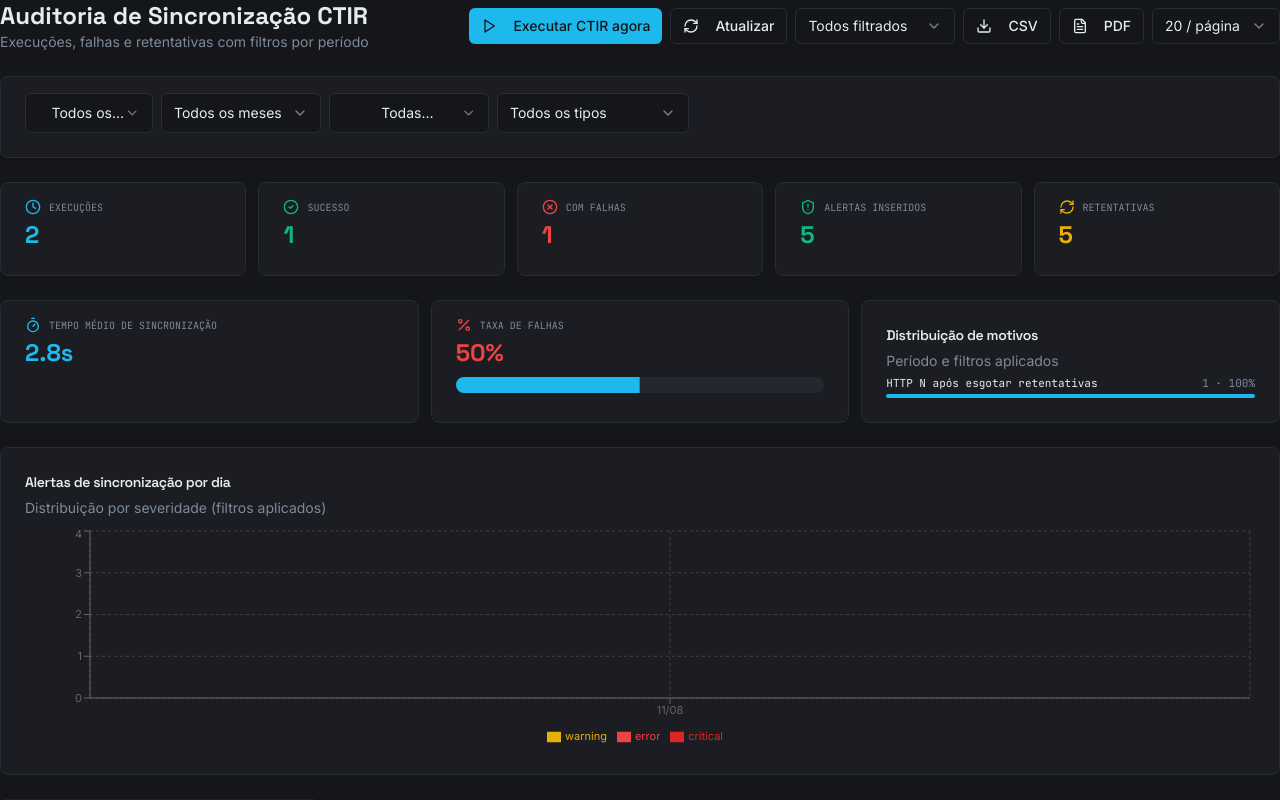
Test case: CtirSyncAuditPage (sessão autenticada) › botão Executar CTIR agora dispara a edge function e mostra progresso
The image size is (1280, 800).
Click the button "Executar CTIR agora" at (566, 26), box [469,8,662,44]
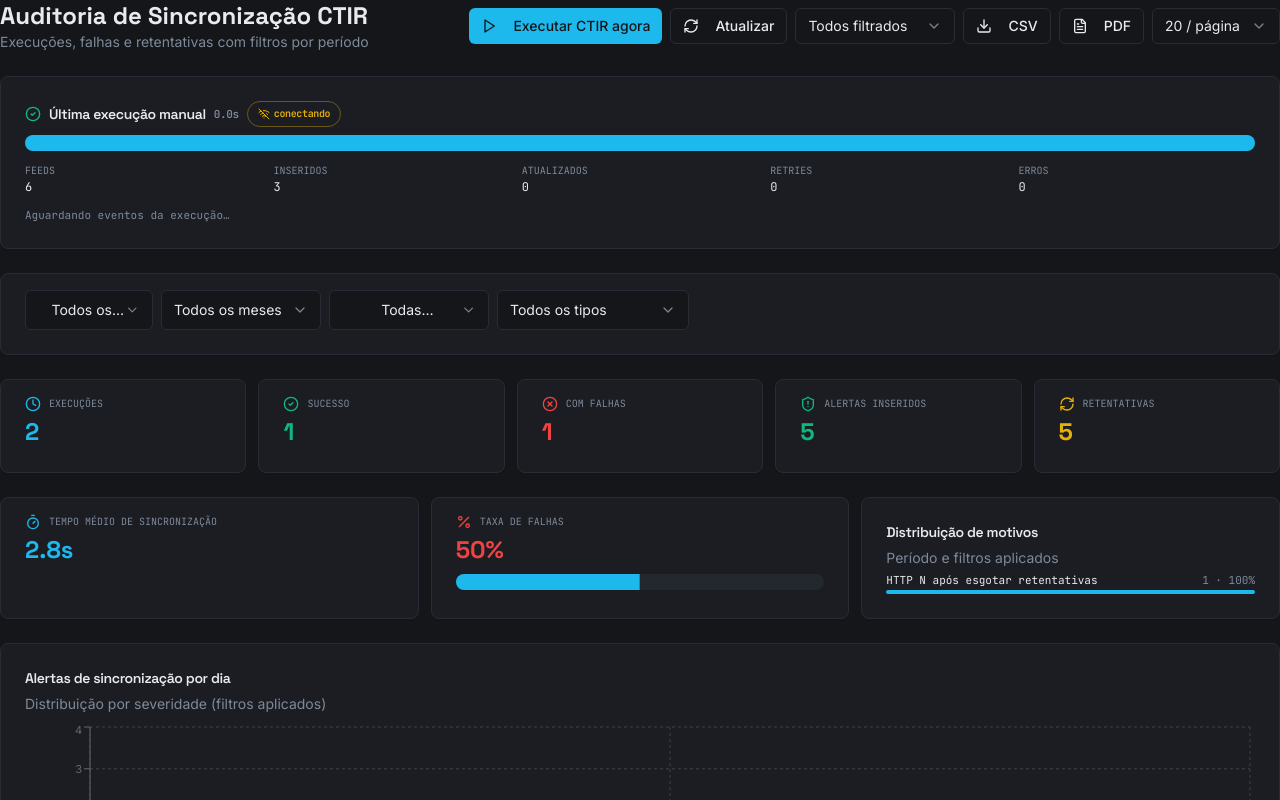
Expected: the element with test id "run-progress" is shown, [0,76,1279,248]
